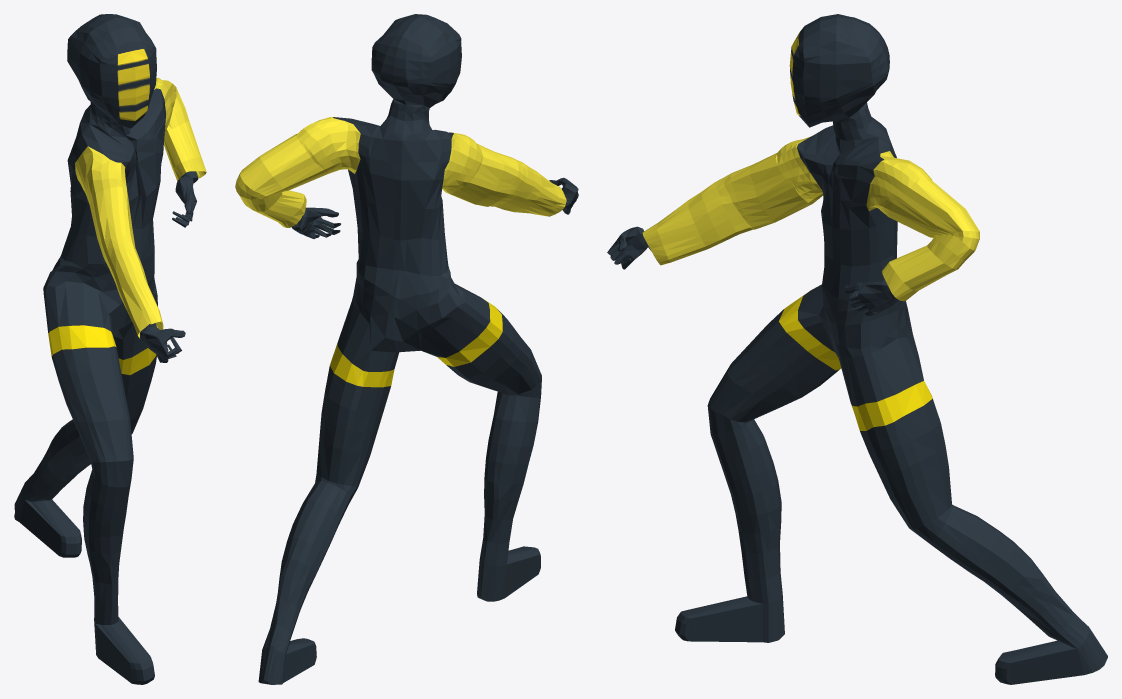
Rendered from Sentry_Die_000001.obj.
The picture shows the model from 3 angles, left to right: view 1: azimuth 30°, elevation 25°; view 2: azimuth 150°, elevation 25°; view 3: azimuth 270°, elevation 25°; orthographic projection. The views are drawn at different scales.
Parts seen in each view (by area): view 1: Cube; view 2: Cube; view 3: Cube.
Boxes of the visible parts, <box> form: Cube: <box>14,14,206,684</box>; Cube: <box>235,14,578,684</box>; Cube: <box>607,14,1107,684</box>.
Size of the model in its own units: 1.25 by 3.59 by 2.53.
